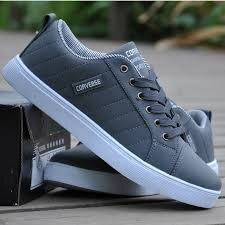Sneakers: (1, 9, 223, 215)
